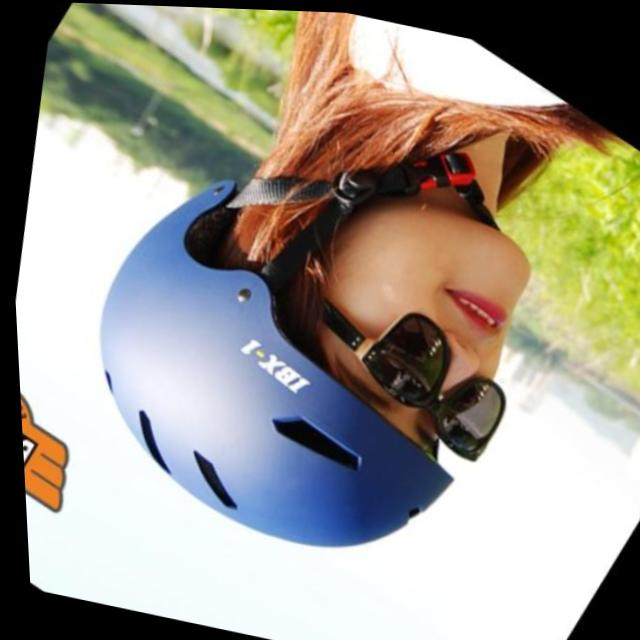WITH_HELMET: (6, 143, 554, 640)
